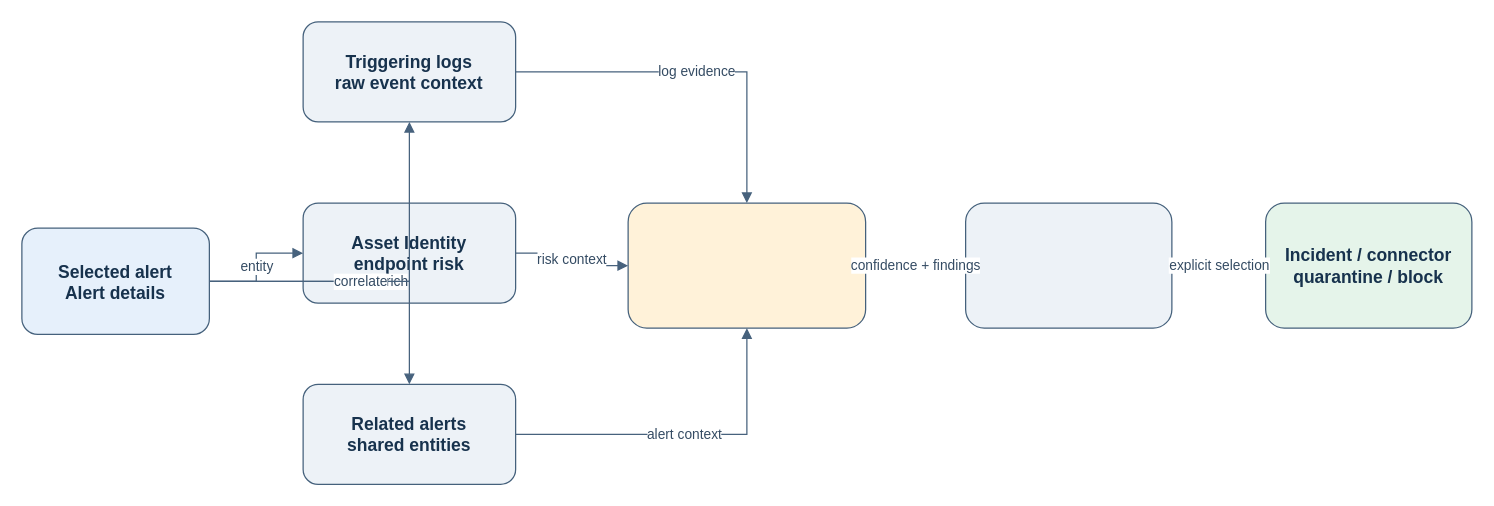
Some shapes in this 1494 by 506 pixel diagram are drawn without their labels. The shapes that lost their labels are listed below. From the top down, each one's centre as x and y in pixels, then its label:
At point (746, 265): "FortiAI triage hypotheses + confidence".
At point (1068, 265): "Analyst review inspect evidence".
